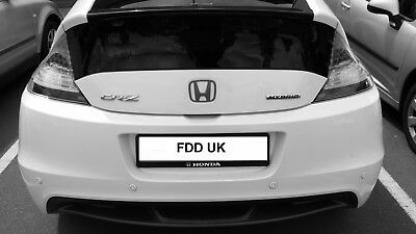license plate: (130, 130, 272, 168)
